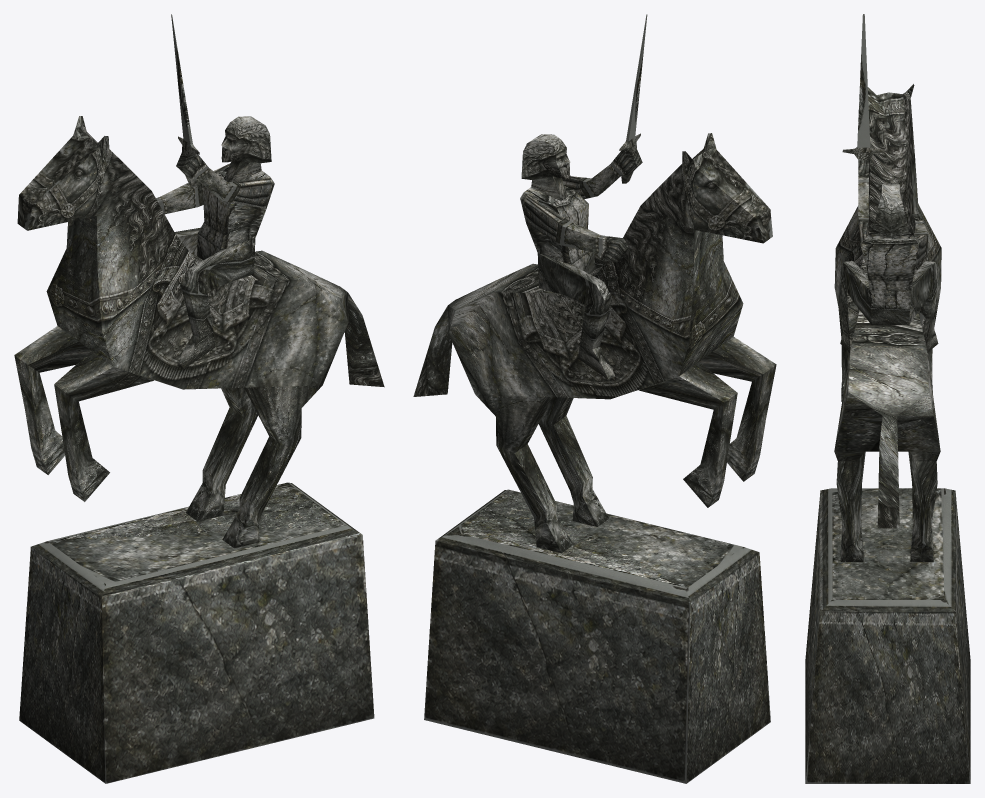
The model's file is mm9_deco_horsestatue3.glb.
3 renders of one model, left to right at view 1: azimuth 30°, elevation 25°; view 2: azimuth 150°, elevation 25°; view 3: azimuth 270°, elevation 25°, orthographic. The views are drawn at different scales.
Visible parts, largest first — view 1: Horsestatue3; view 2: Horsestatue3; view 3: Horsestatue3.
Part boxes in pixels (x1=…): Horsestatue3: x1=14, y1=14, x2=384, y2=783; Horsestatue3: x1=413, y1=14, x2=776, y2=783; Horsestatue3: x1=805, y1=14, x2=970, y2=783.
Size of the model in its own units: 2.36 by 4.57 by 0.9919.
Materials: 2 (2 with a texture image).
